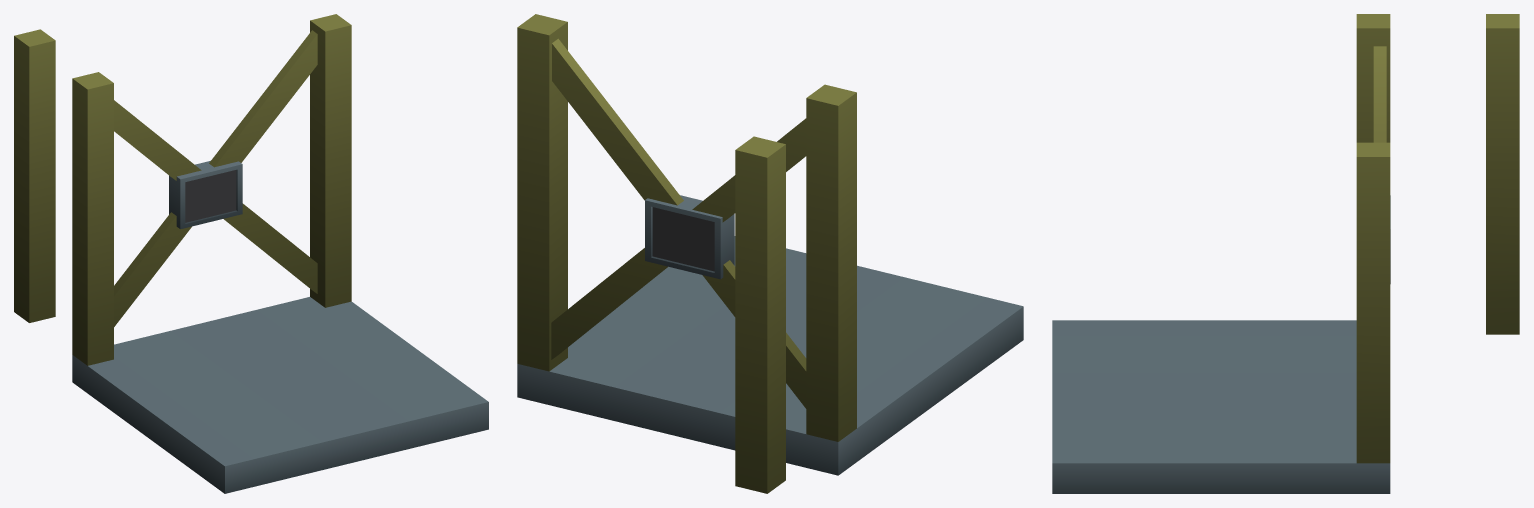
File: RackModuls.fbx
3 renders of one model, left to right at view 1: azimuth 30°, elevation 25°; view 2: azimuth 150°, elevation 25°; view 3: azimuth 270°, elevation 25°, orthographic. The views are drawn at different scales.
Parts seen in each view (by area): view 1: Rack, Beam, Beam2; view 2: Beam, Rack, Beam2; view 3: Rack, Beam, Beam2.
Boxes of the visible parts, x1=… form: Rack: x1=72, y1=297, x2=488, y2=493; Beam: x1=72, y1=14, x2=351, y2=365; Beam2: x1=14, y1=29, x2=55, y2=322; Beam: x1=517, y1=14, x2=856, y2=441; Rack: x1=517, y1=236, x2=1023, y2=475; Beam2: x1=735, y1=136, x2=785, y2=493; Rack: x1=1052, y1=320, x2=1390, y2=493; Beam: x1=1356, y1=14, x2=1390, y2=463; Beam2: x1=1486, y1=14, x2=1519, y2=334.
Bounding box in the file's own units: 200 × 220 × 276.
